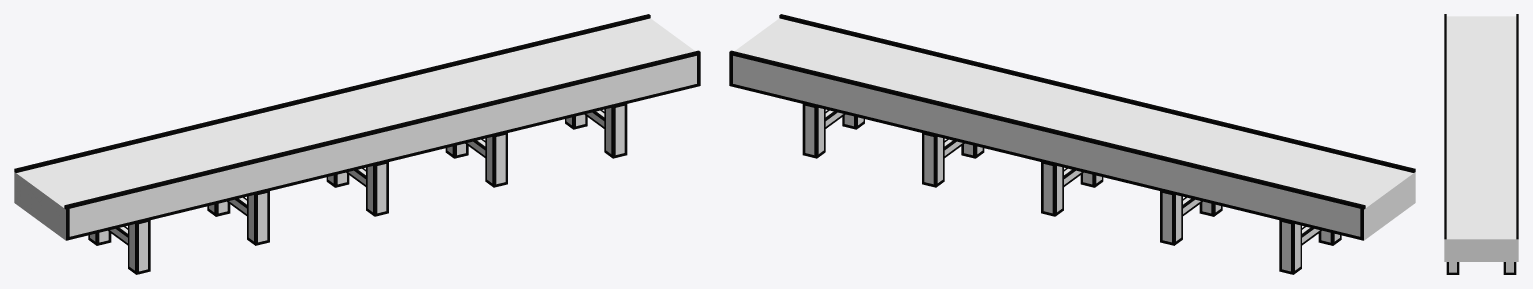
The model's file is conveyor.fbx.
3 renders of one model, left to right at view 1: azimuth 30°, elevation 25°; view 2: azimuth 150°, elevation 25°; view 3: azimuth 270°, elevation 25°, orthographic. The views are drawn at different scales.
Visible parts, largest first — view 1: Cube, Legs.002, Legs.004, Legs.003, Legs, Legs.001; view 2: Cube, Legs.002, Legs.004, Legs.003, Legs, Legs.001; view 3: Cube, Legs.002.
Part boxes in pixels (<box>): Cube: <box>14,14,700,240</box>; Legs.002: <box>565,104,627,158</box>; Legs.004: <box>88,220,150,274</box>; Legs.003: <box>207,191,269,245</box>; Legs: <box>326,162,388,216</box>; Legs.001: <box>445,133,507,187</box>; Cube: <box>729,14,1415,240</box>; Legs.002: <box>802,104,864,158</box>; Legs.004: <box>1279,220,1341,274</box>; Legs.003: <box>1160,191,1222,245</box>; Legs: <box>1041,162,1103,216</box>; Legs.001: <box>922,133,984,187</box>; Cube: <box>1444,14,1518,261</box>; Legs.002: <box>1446,262,1516,274</box>.
Bounding box in the file's own units: 1065 × 140 × 150.
